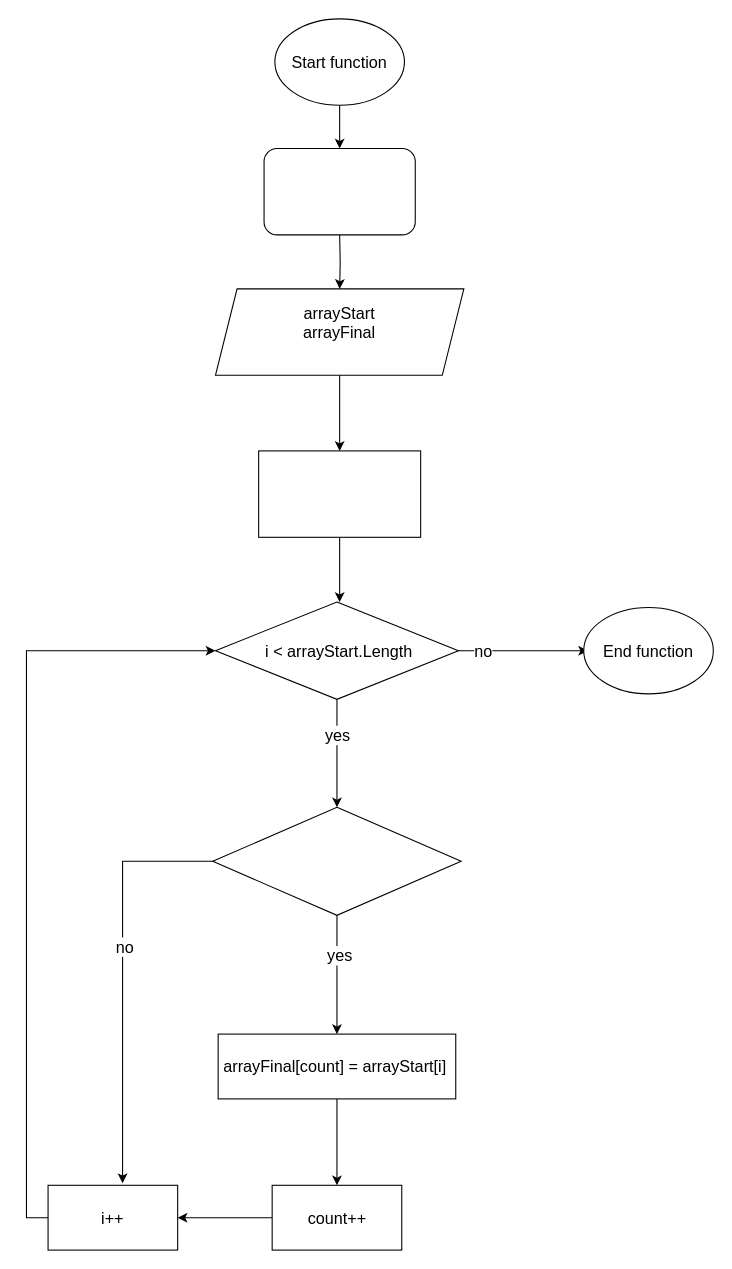
This 732x1269 diagram has some shape labels left out. The box of each missing label's shape, as (x1, y1, x2, y2) in pixels:
arrayStart[i].Length <= 3: (212, 806, 461, 915)
count = 0 i = 0: (258, 450, 421, 537)
ResultArray: (263, 147, 415, 235)
